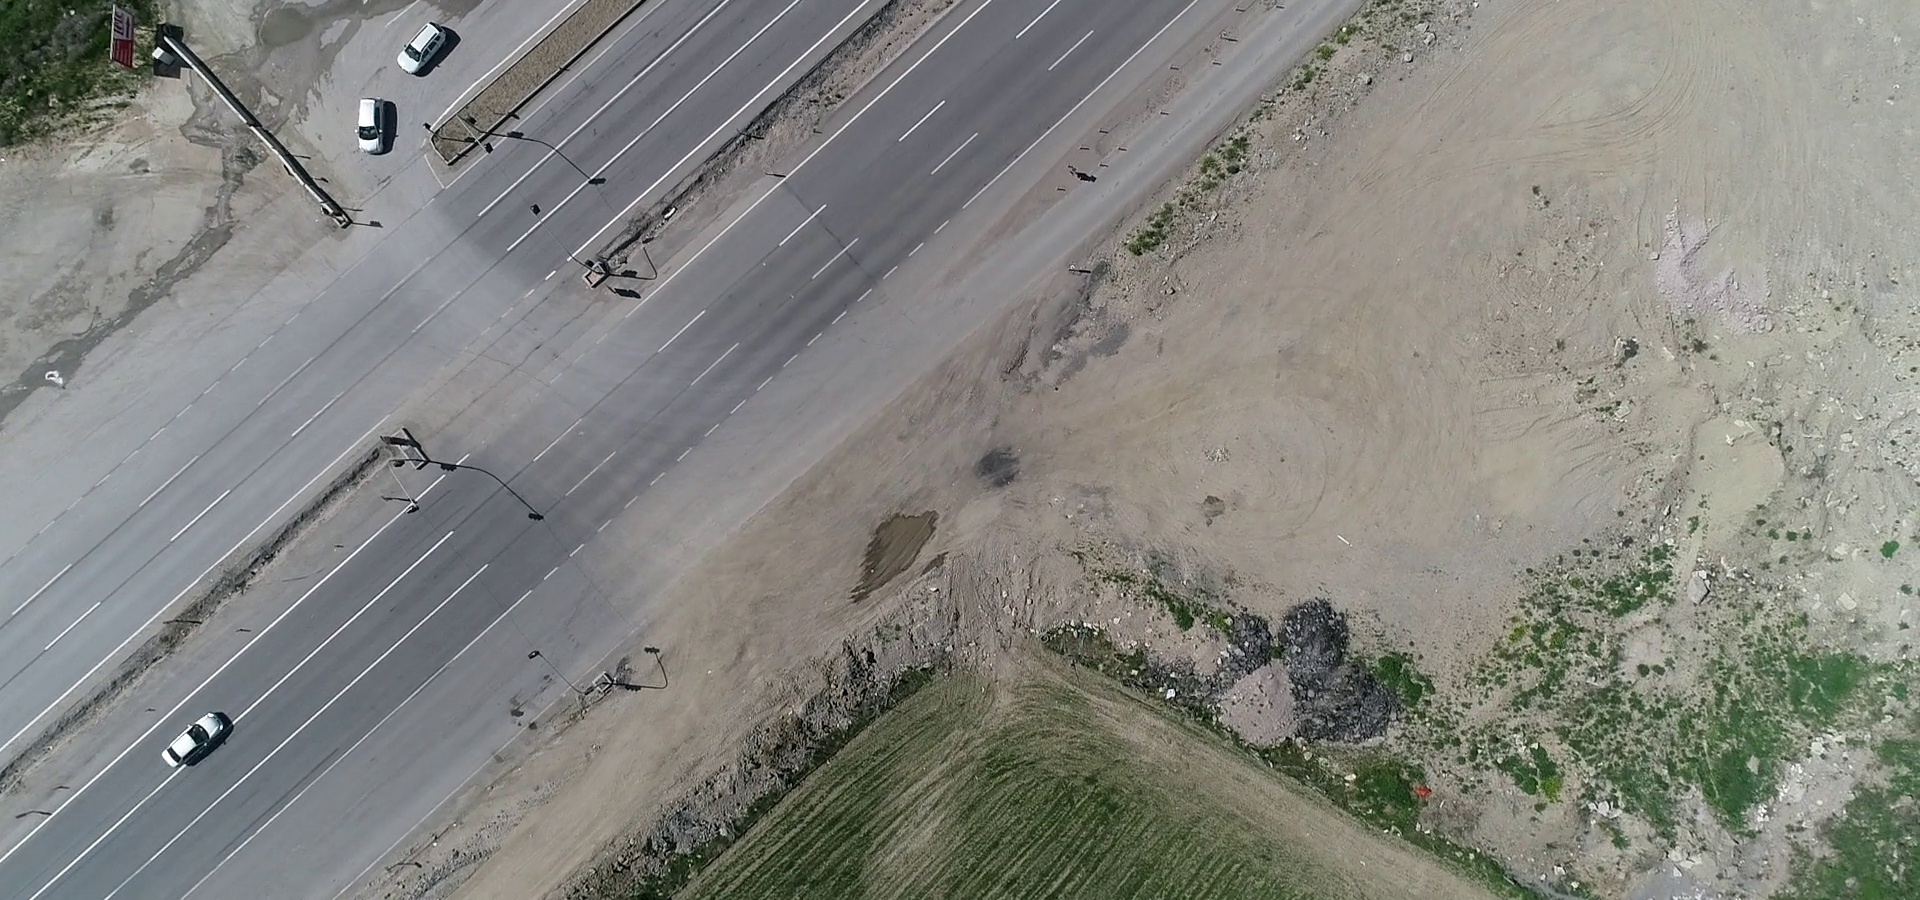araba: (151, 704, 241, 776), (387, 15, 456, 73), (350, 94, 396, 158)
